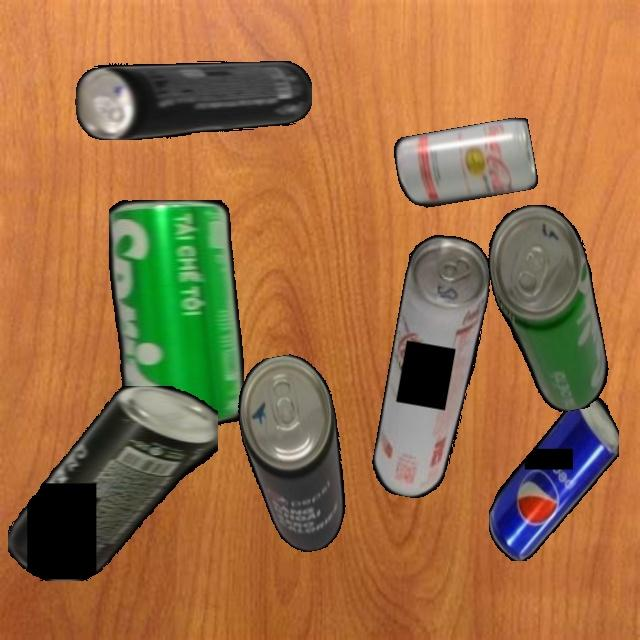debris: (8, 385, 218, 581), (368, 230, 497, 504), (109, 199, 244, 426), (480, 197, 614, 420), (230, 349, 358, 559), (488, 393, 619, 561), (75, 60, 312, 140), (392, 116, 539, 211)
